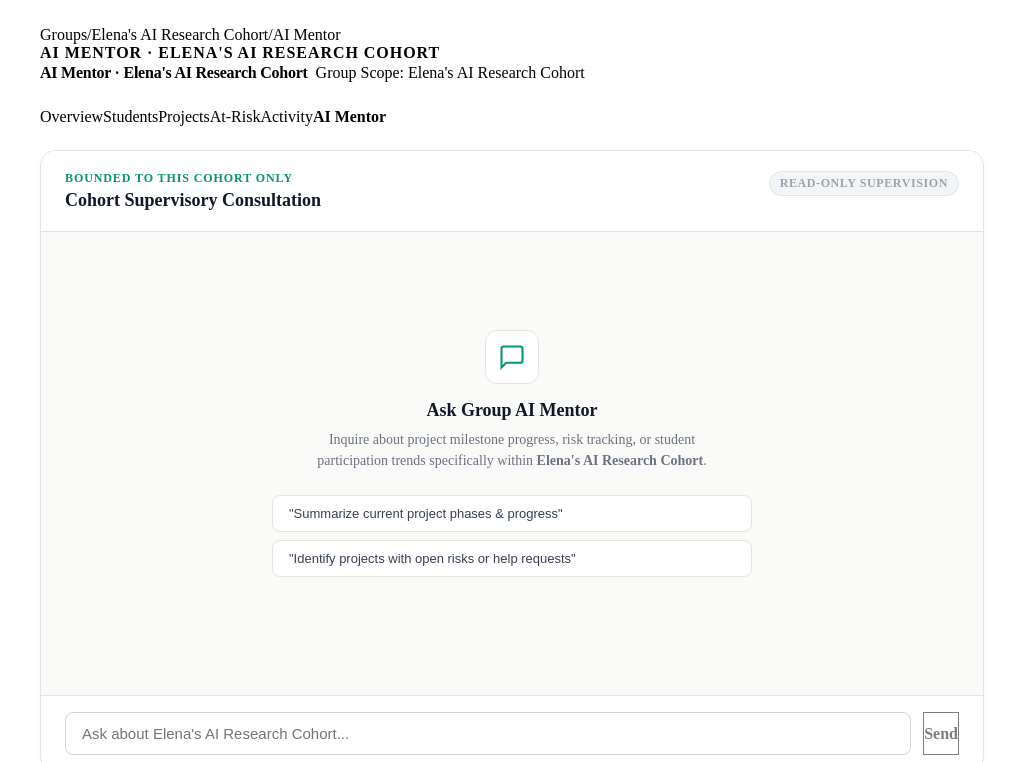
Test: Phase 7 Batch 6: Mentor Scoped Activity & AI Supervision › M09: GroupAIMentor › submits a group supervisory question and displays assistant response
The image size is (1024, 762).
Check: the heading "Cohort Supervisory Consultation" is shown, box [65,190,321,211]
Type "How is the cohort progressing?" into the field named "message group ai mentor". click: point(488, 734)
box: [65,712,911,755]
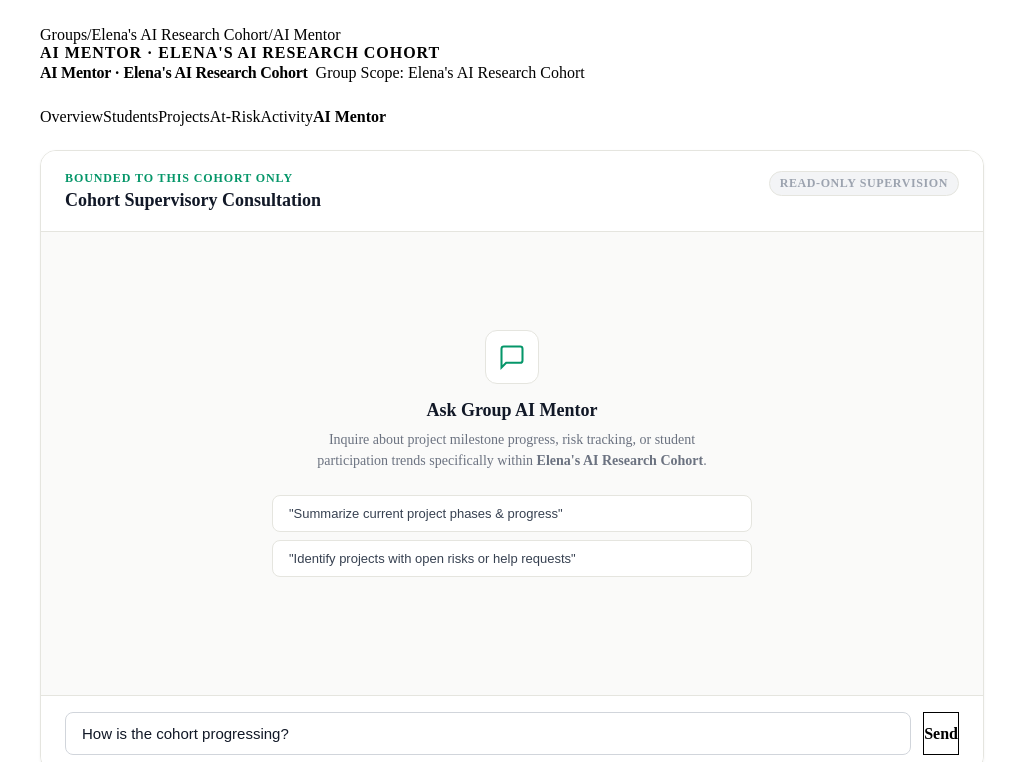
Check: the button "Send" is enabled
Click the button "Send". click: point(941, 734)
box: [923,712,959,755]
(page scrolled)
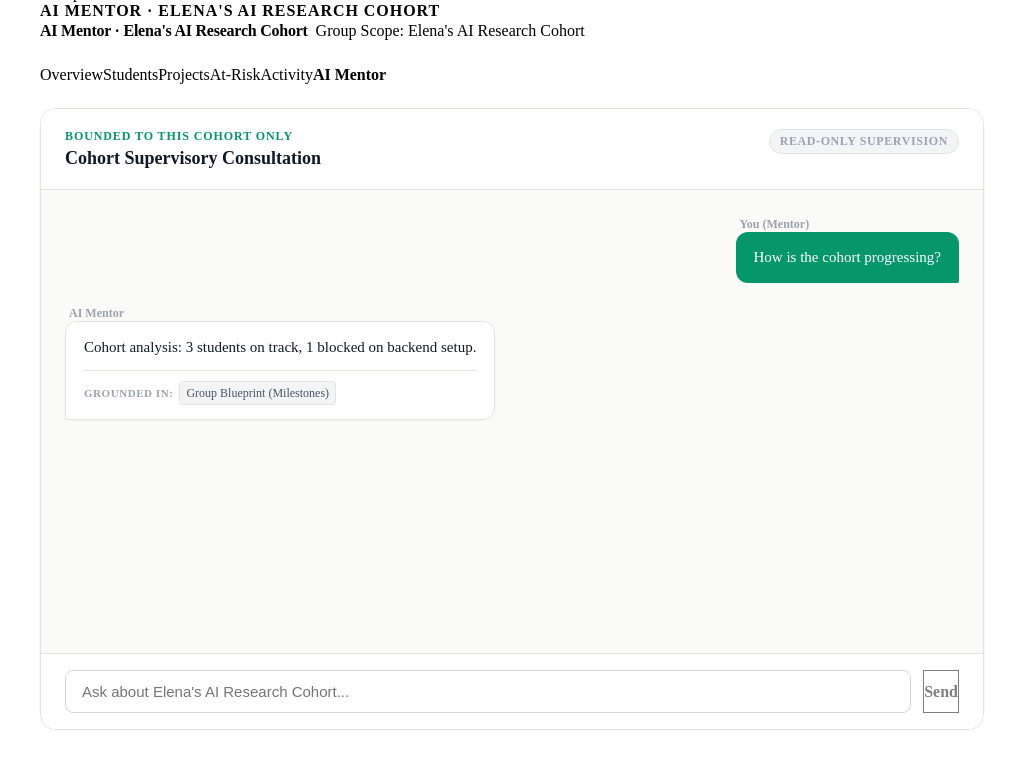
Check: the text "Cohort analysis: 3 students on track, 1 blocked on backend setup." is shown, box [84,336,476,358]
Check: the text "Grounded in:" is shown, box [84,385,173,401]
Check: the text "Group Blueprint (Milestones)" is shown, box [179,381,336,405]
